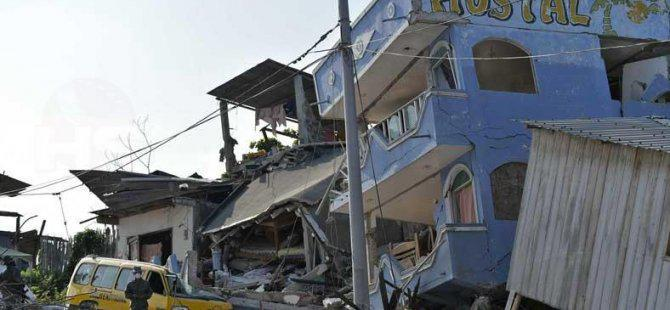destroyed: (65, 18, 370, 310)
